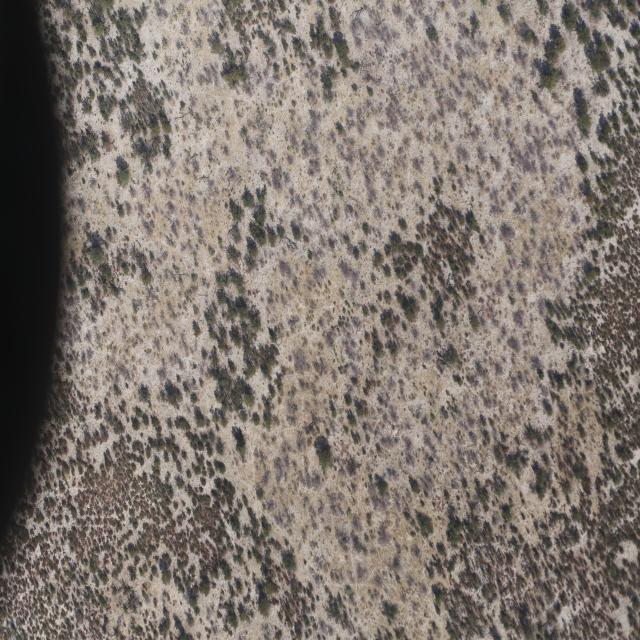elephant: (433, 429, 438, 436), (434, 554, 438, 562), (422, 364, 426, 370), (429, 457, 435, 461), (439, 356, 444, 360)
